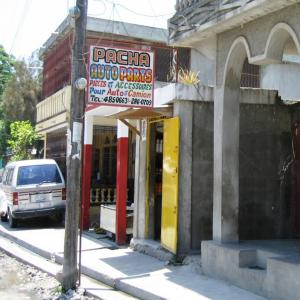Vehicle-registration-plate: (37, 194, 47, 203)
